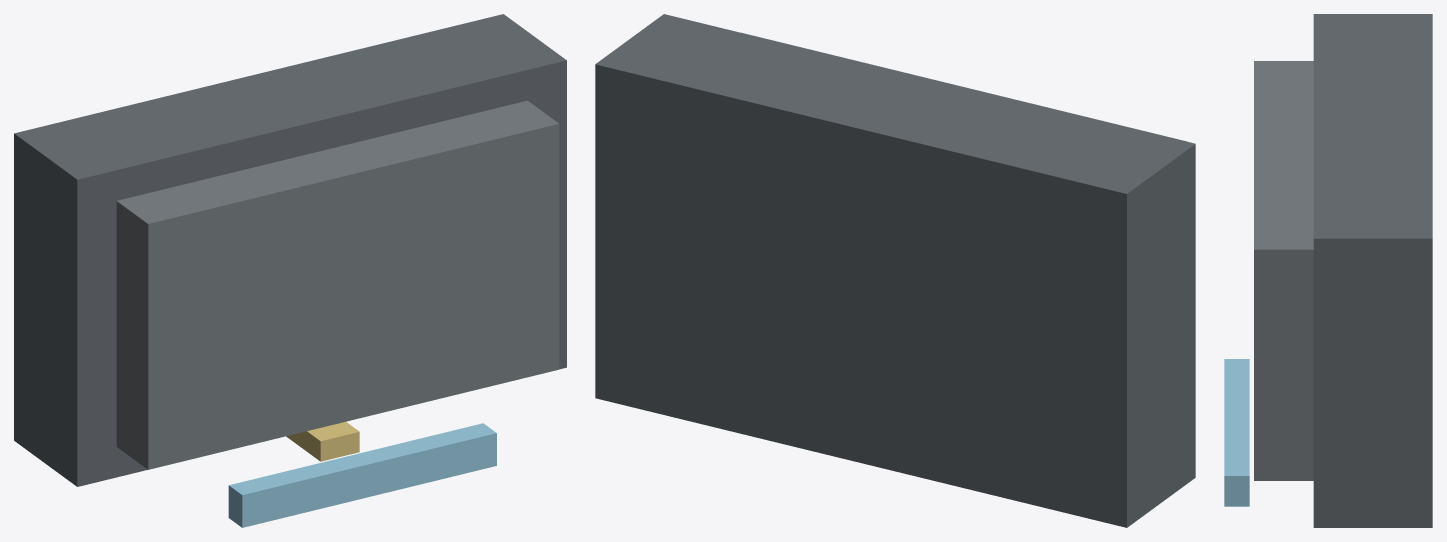
The model's file is intel_case.glb.
3 renders of one model, left to right at view 1: azimuth 30°, elevation 25°; view 2: azimuth 150°, elevation 25°; view 3: azimuth 270°, elevation 25°, orthographic. The views are drawn at different scales.
Parts seen in each view (by area): view 1: part_1, part_0, part_3, part_2; view 2: part_0; view 3: part_0, part_1, part_3.
Boxes of the visible parts, left/top/right/bottom form: part_1: left=116, top=100, right=559, bottom=469; part_0: left=14, top=14, right=566, bottom=486; part_3: left=228, top=423, right=496, bottom=527; part_2: left=286, top=421, right=359, bottom=461; part_0: left=595, top=14, right=1195, bottom=527; part_0: left=1313, top=14, right=1432, bottom=527; part_1: left=1254, top=61, right=1313, bottom=480; part_3: left=1224, top=359, right=1249, bottom=506.
Bounding box in the file's own units: 1.25 × 0.835 × 0.49.
